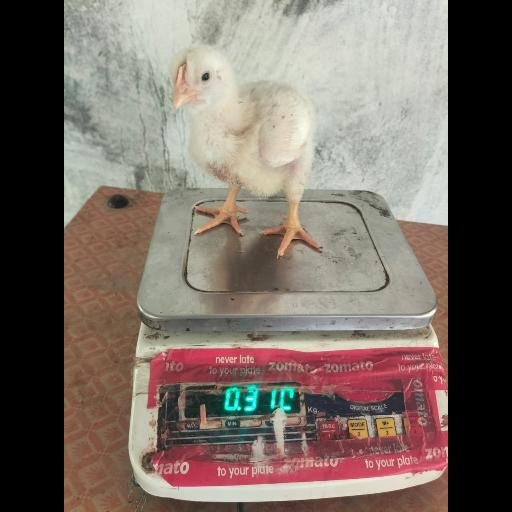chick: (172, 44, 322, 255)
